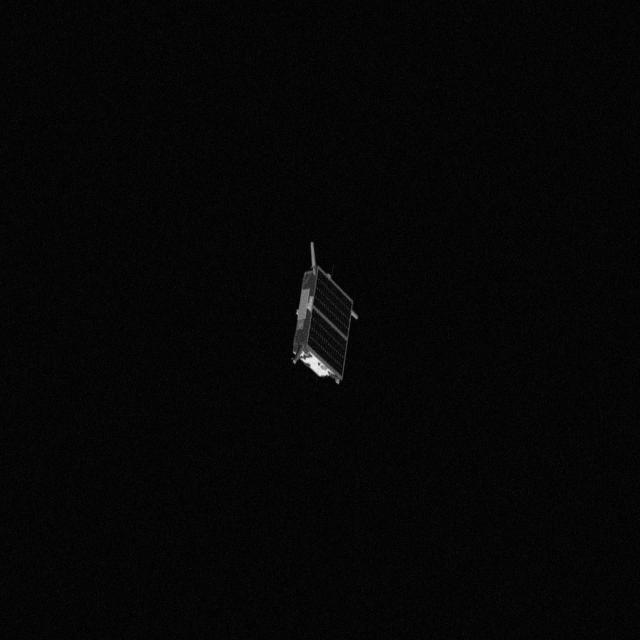medium_debris: (282, 238, 366, 390)
